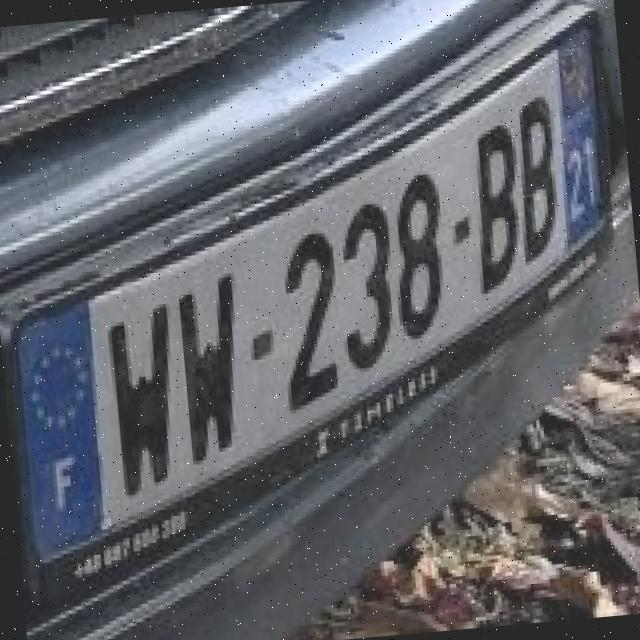EU: (2, 34, 622, 569)
France: (16, 304, 105, 569)
